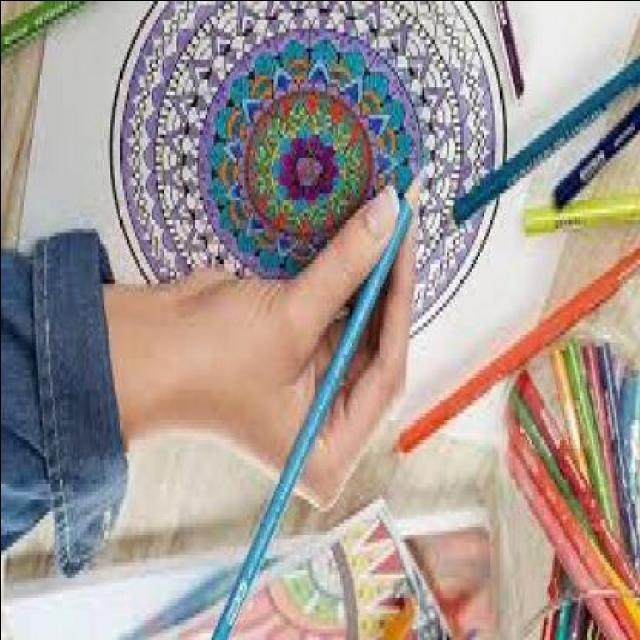pencil: (398, 142, 436, 228)
